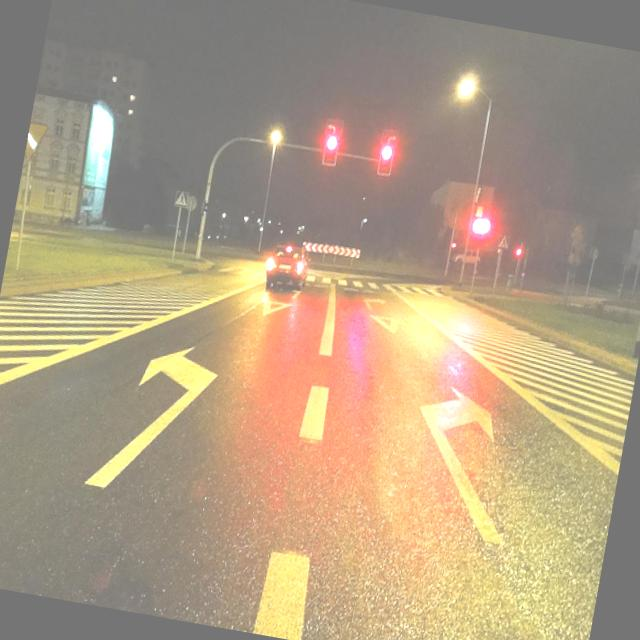Vehicle: (262, 242, 312, 295), (450, 246, 480, 268)
